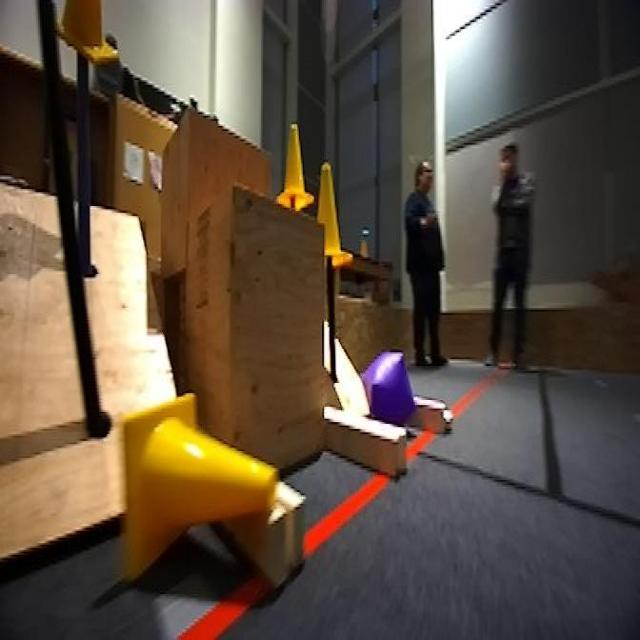frc_cone: (118, 393, 278, 587), (310, 158, 354, 274), (49, 0, 124, 63), (277, 119, 314, 220)
frc_cube: (363, 346, 418, 426)
